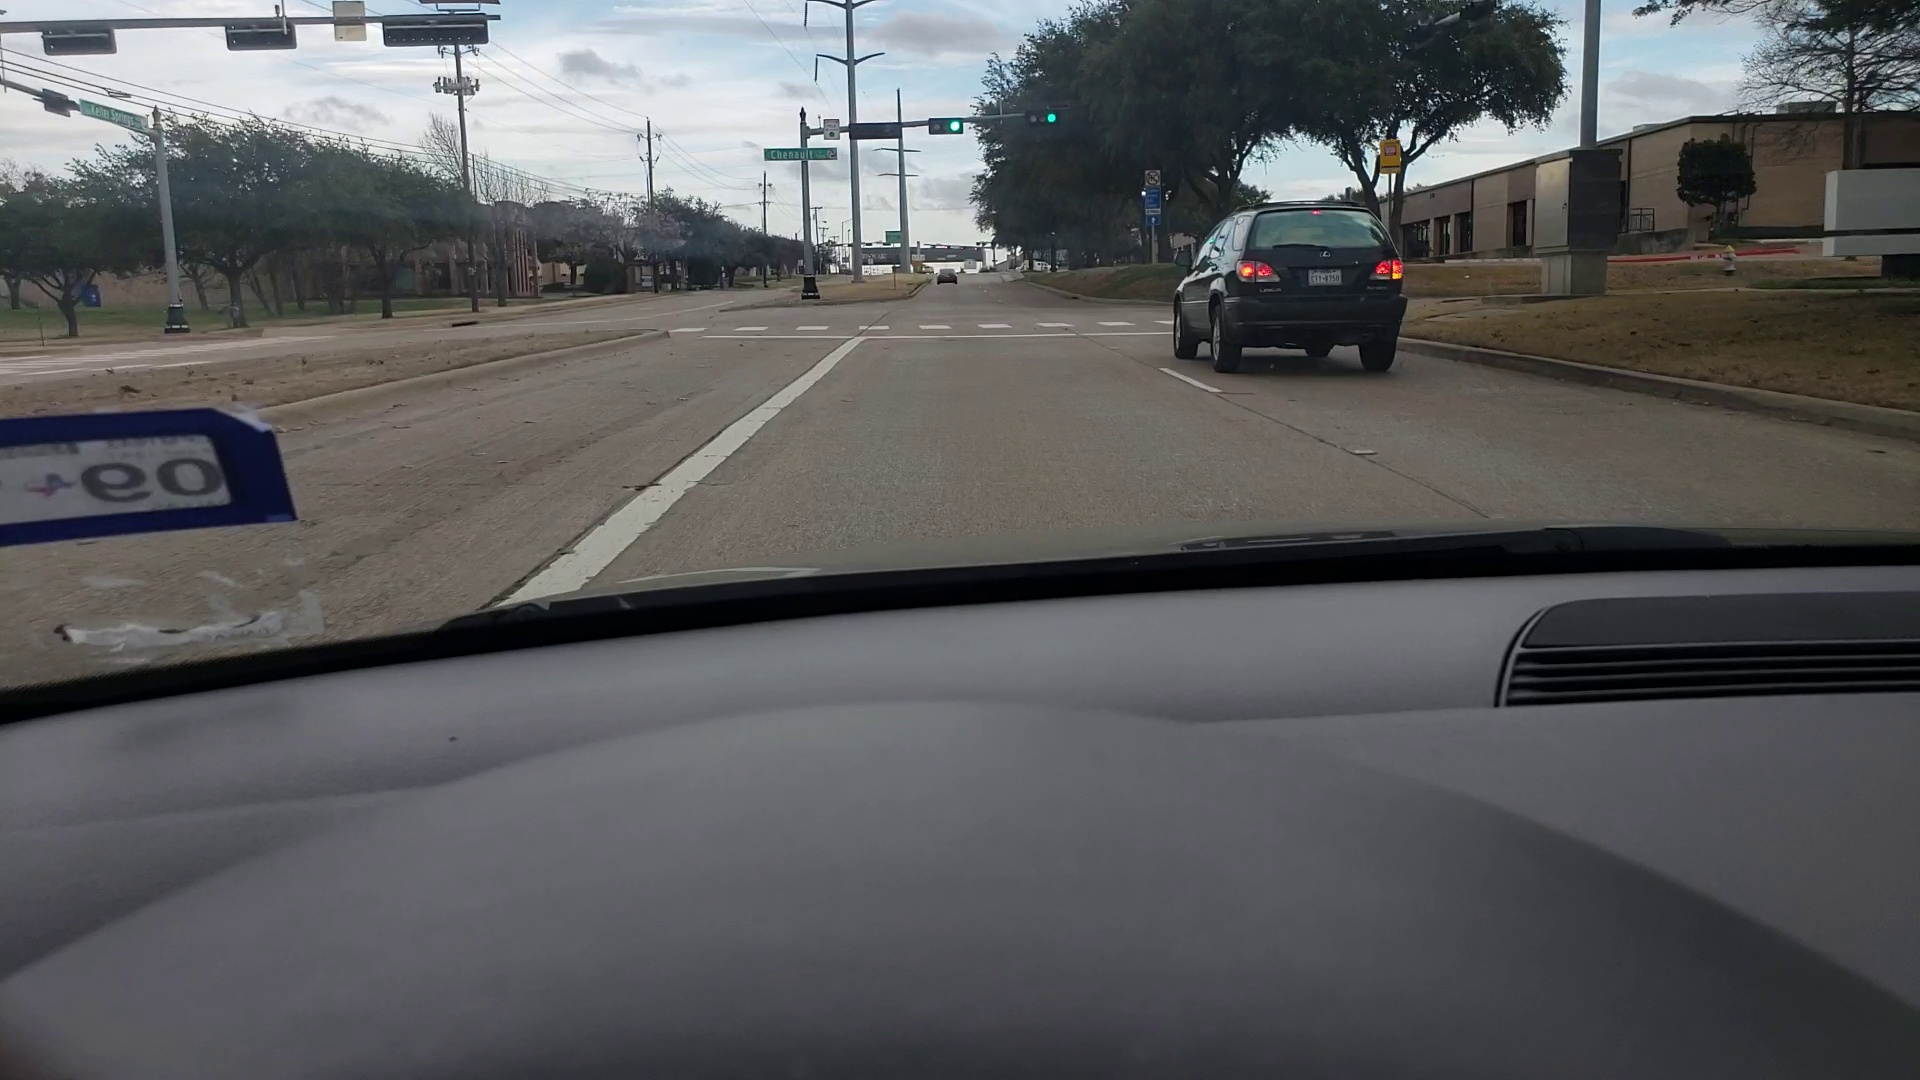car: (1175, 207, 1408, 378), (938, 265, 961, 285)
traffic light: (1033, 108, 1081, 124), (927, 113, 963, 135)
